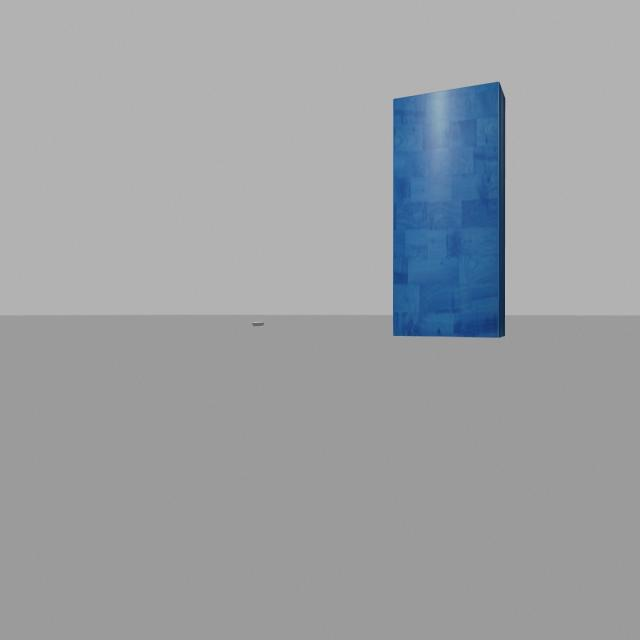bowl: (245, 314, 271, 337)
shelf: (386, 76, 511, 345)
